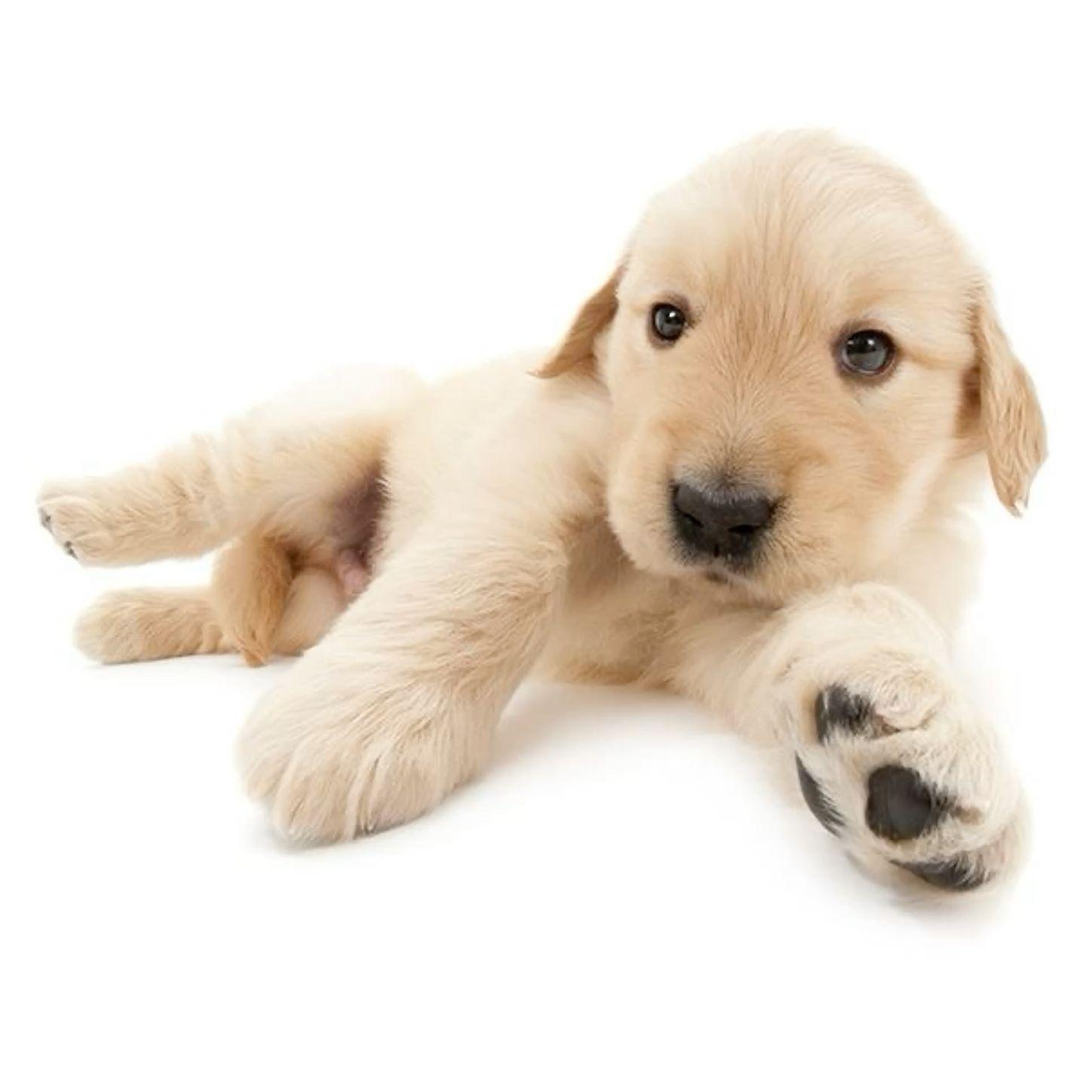puppy-dog: (37, 118, 1052, 907)
